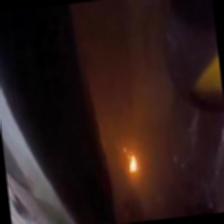fire: (121, 147, 145, 180)
